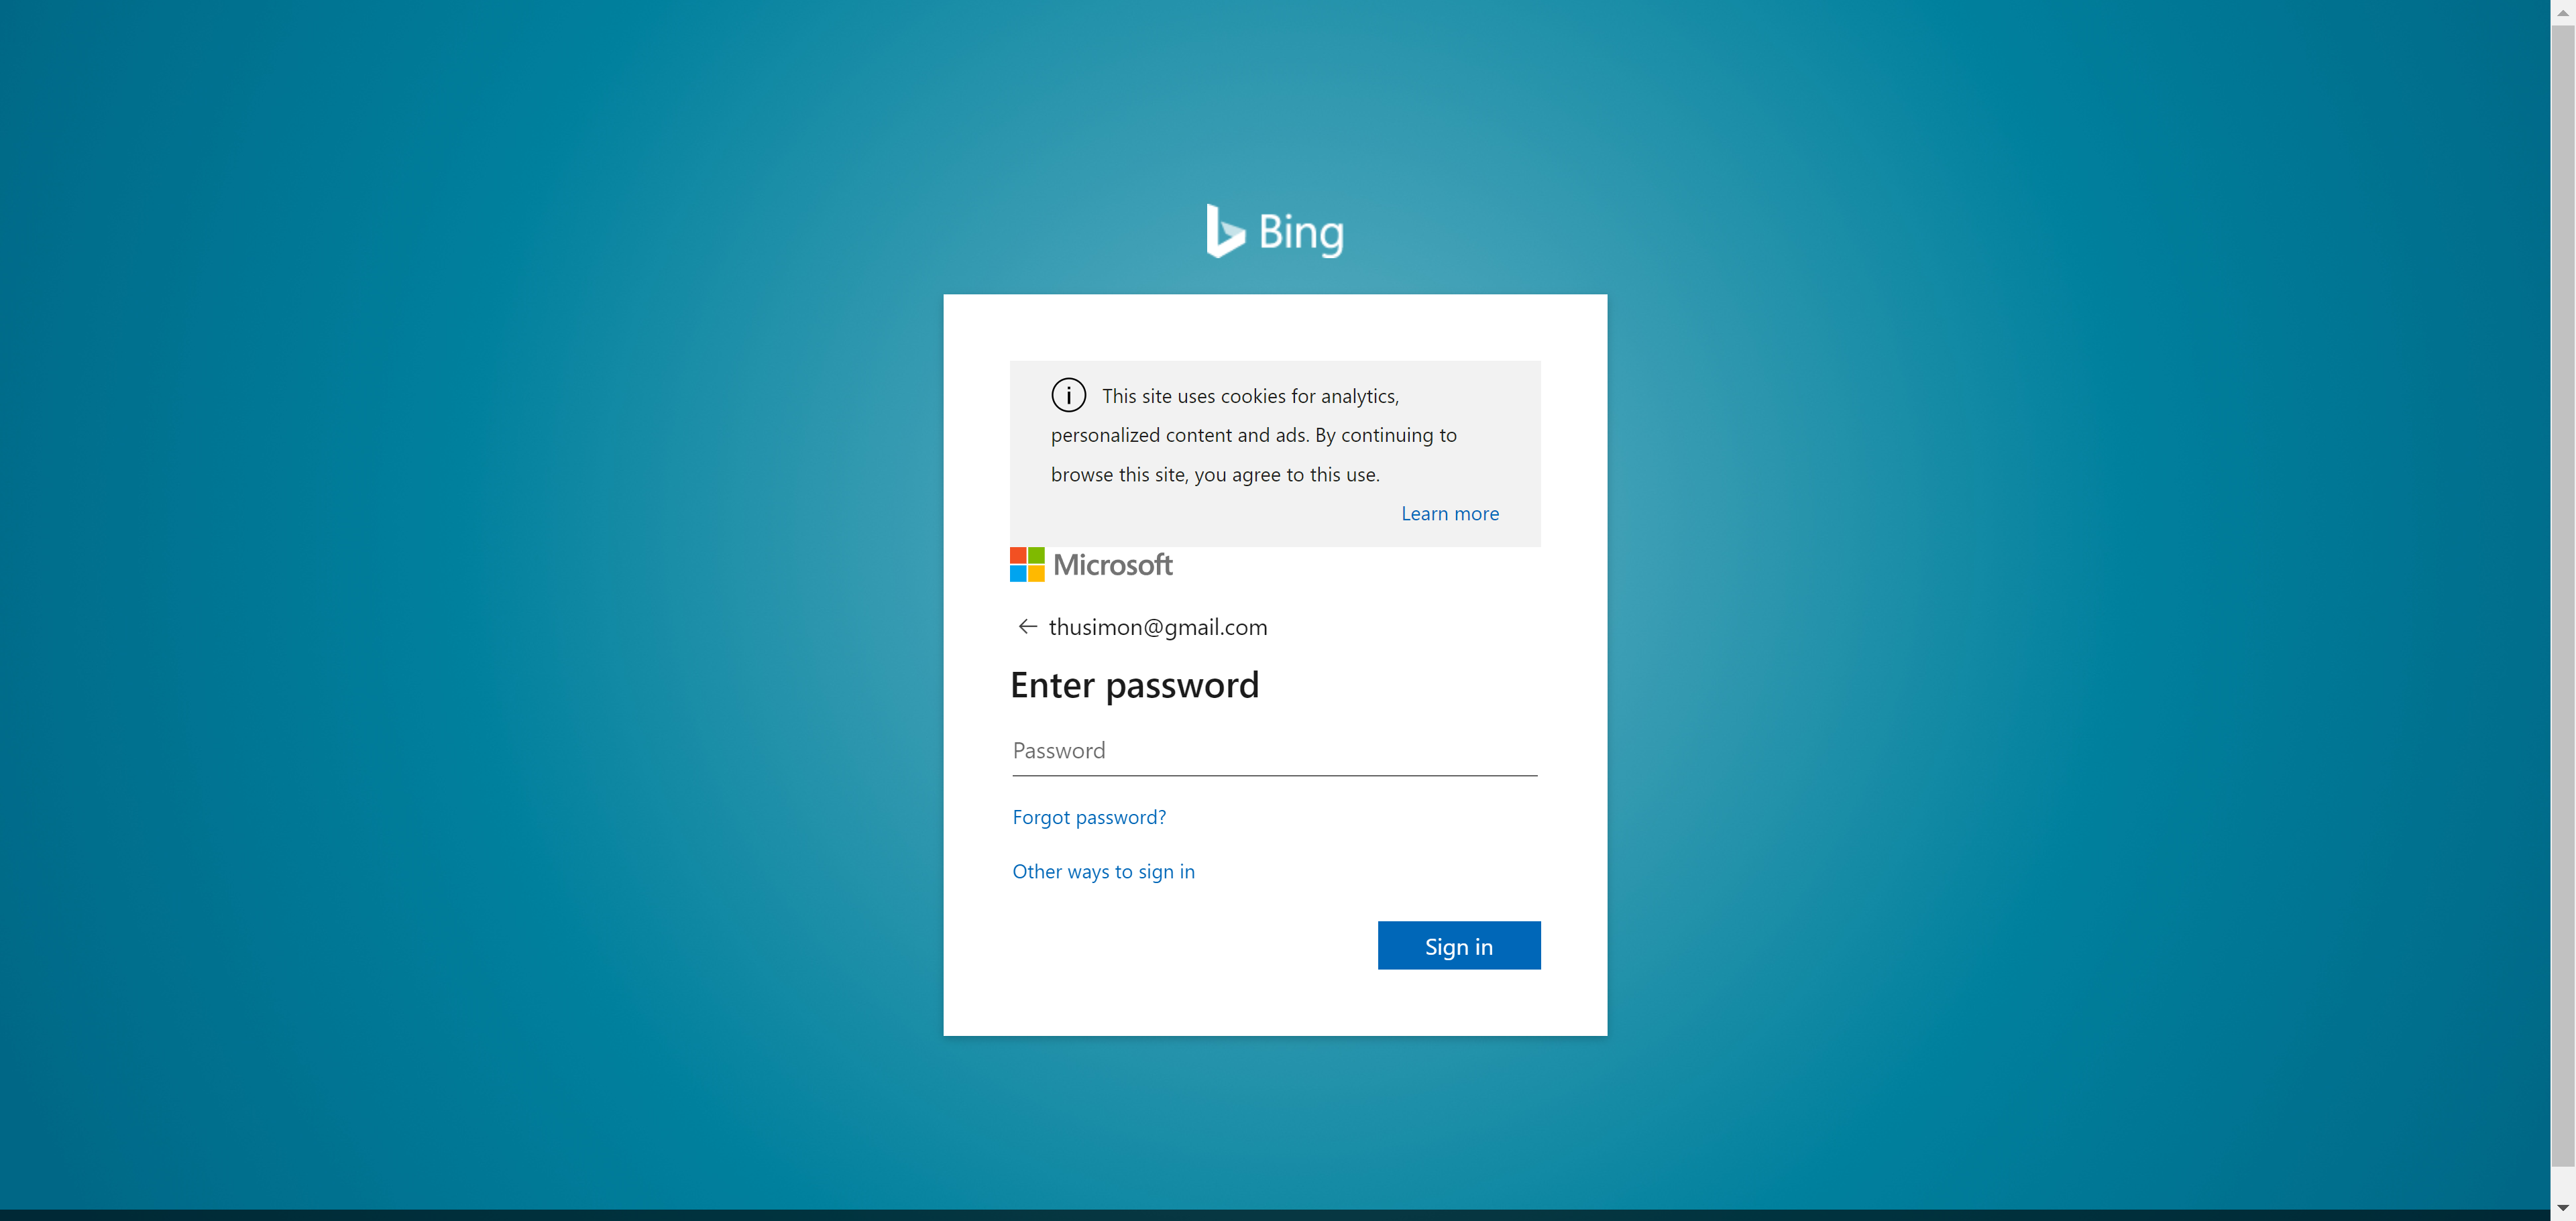login_button: (1378, 920, 1541, 970)
login_form: (1002, 723, 1551, 981)
